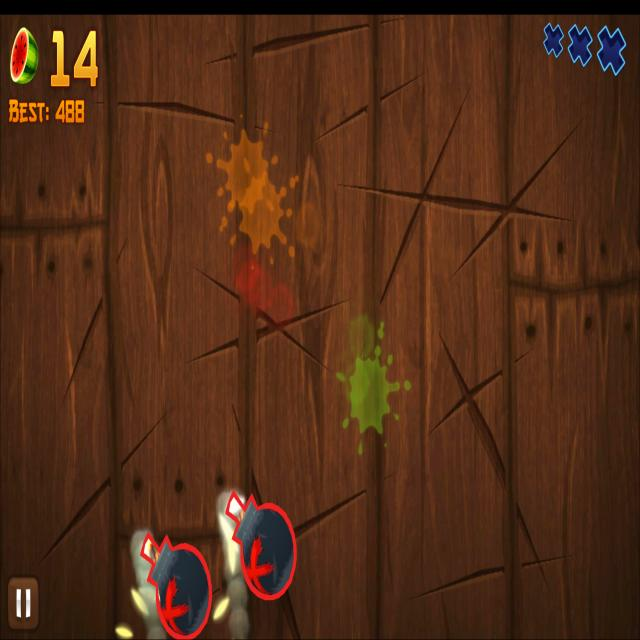bomb: (226, 489, 296, 600), (142, 530, 212, 639)
